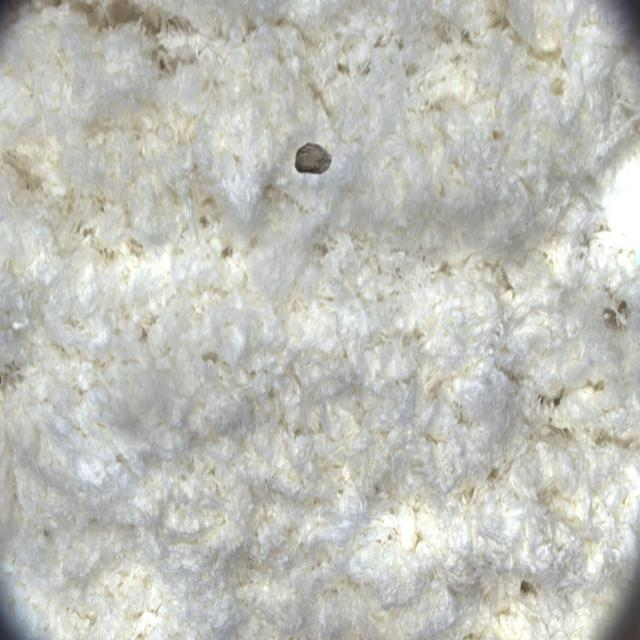dust: (276, 91, 361, 210)
